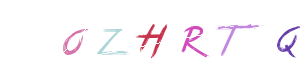H: (112, 0, 192, 80)
O: (108, 0, 188, 80)
Q: (219, 0, 299, 80)
R: (113, 0, 193, 80)
T: (154, 0, 234, 80)
Z: (112, 0, 192, 80)
